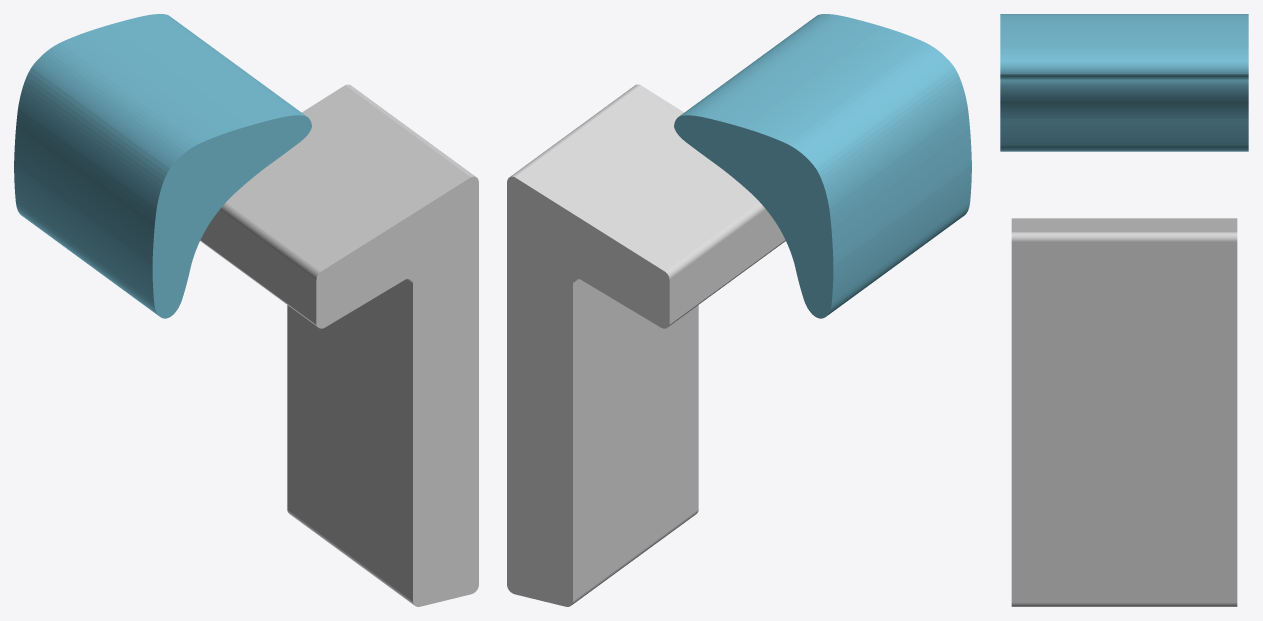
The picture shows the model from 3 angles, left to right: view 1: azimuth 30°, elevation 25°; view 2: azimuth 150°, elevation 25°; view 3: azimuth 270°, elevation 25°; orthographic projection. The views are drawn at different scales.
Visible parts, largest first — view 1: U+FE82E_layer00_obj00, U+FE82E_layer01_obj00; view 2: U+FE82E_layer00_obj00, U+FE82E_layer01_obj00; view 3: U+FE82E_layer00_obj00, U+FE82E_layer01_obj00.
Boxes of the visible parts, x1,y1,x2,y2 form: U+FE82E_layer00_obj00: (200, 84, 478, 606); U+FE82E_layer01_obj00: (14, 14, 311, 318); U+FE82E_layer00_obj00: (507, 84, 785, 606); U+FE82E_layer01_obj00: (674, 14, 971, 318); U+FE82E_layer00_obj00: (1011, 218, 1237, 606); U+FE82E_layer01_obj00: (1000, 14, 1248, 151).
Size of the model in its own units: 0.1526 by 0.232 by 0.11.
